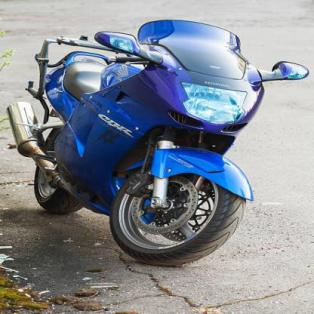Motocicleta: (3, 16, 313, 268)
